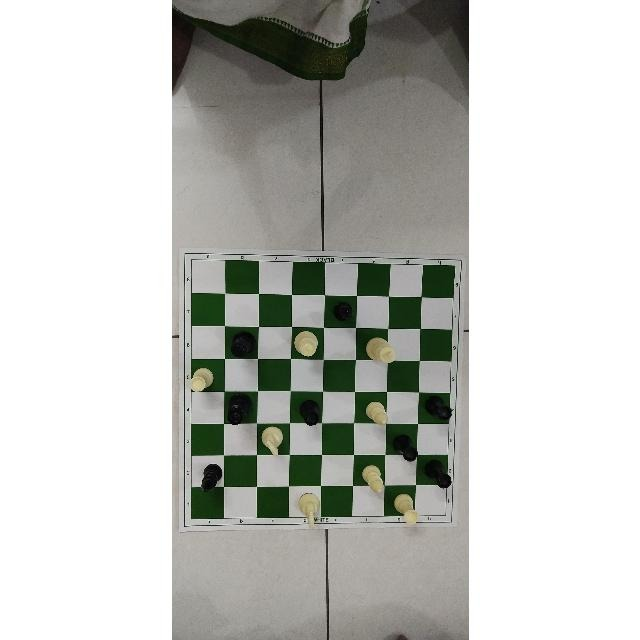black-bishop: (199, 463, 221, 492), (332, 300, 353, 322)
black-king: (230, 330, 255, 358)
black-queen: (224, 392, 252, 425)
black-rook: (424, 459, 452, 488), (392, 434, 418, 462), (425, 395, 451, 421), (299, 400, 321, 426)
white-bishop: (360, 464, 383, 493), (364, 401, 388, 426)
white-king: (364, 337, 396, 365)
white-knight: (298, 492, 320, 528), (260, 426, 282, 457)
white-queen: (293, 331, 317, 357)
white-rook: (392, 492, 417, 525), (189, 367, 213, 392)
